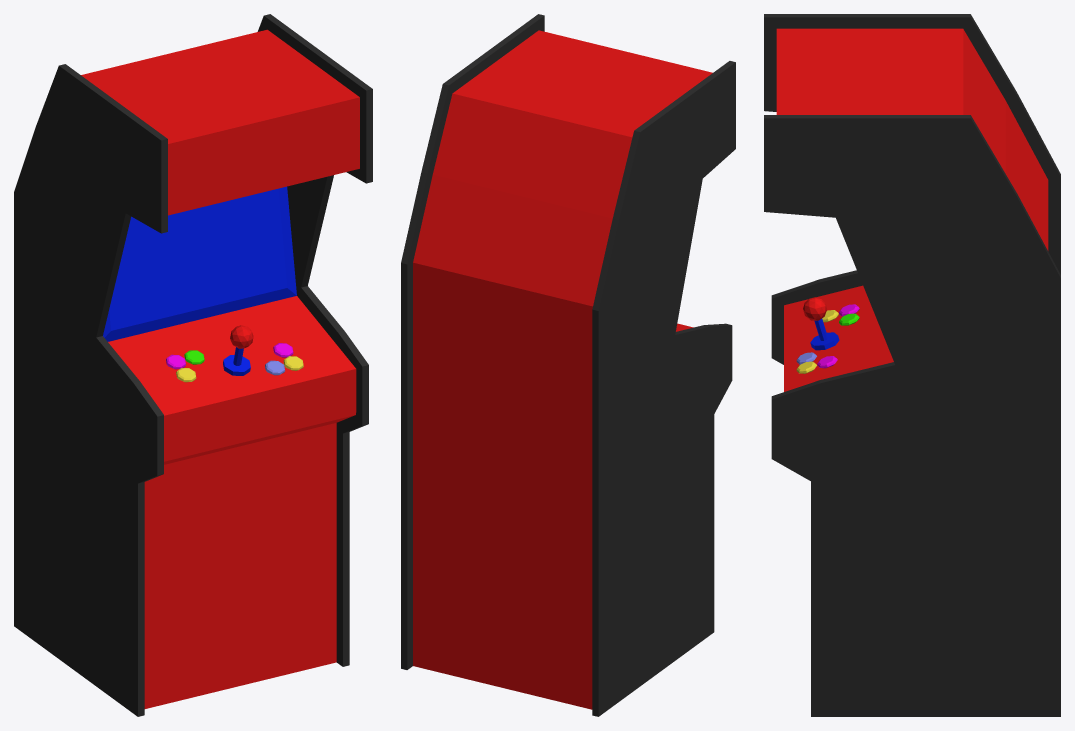
File: Arcade Machine.fbx
3 renders of one model, left to right at view 1: azimuth 30°, elevation 25°; view 2: azimuth 150°, elevation 25°; view 3: azimuth 270°, elevation 25°, orthographic. The views are drawn at different scales.
Visible parts, largest first — view 1: Arcade Machine, Arcade Machine.001; view 2: Arcade Machine; view 3: Arcade Machine, Arcade Machine.001.
Part boxes in pixels (box(x1,y1,x2,y2)): Arcade Machine: box(14, 14, 372, 716); Arcade Machine.001: box(223, 325, 253, 375); Arcade Machine: box(401, 14, 735, 716); Arcade Machine: box(764, 14, 1060, 716); Arcade Machine.001: box(803, 297, 839, 350).
Size of the model in its own units: 145 by 389 by 175.
